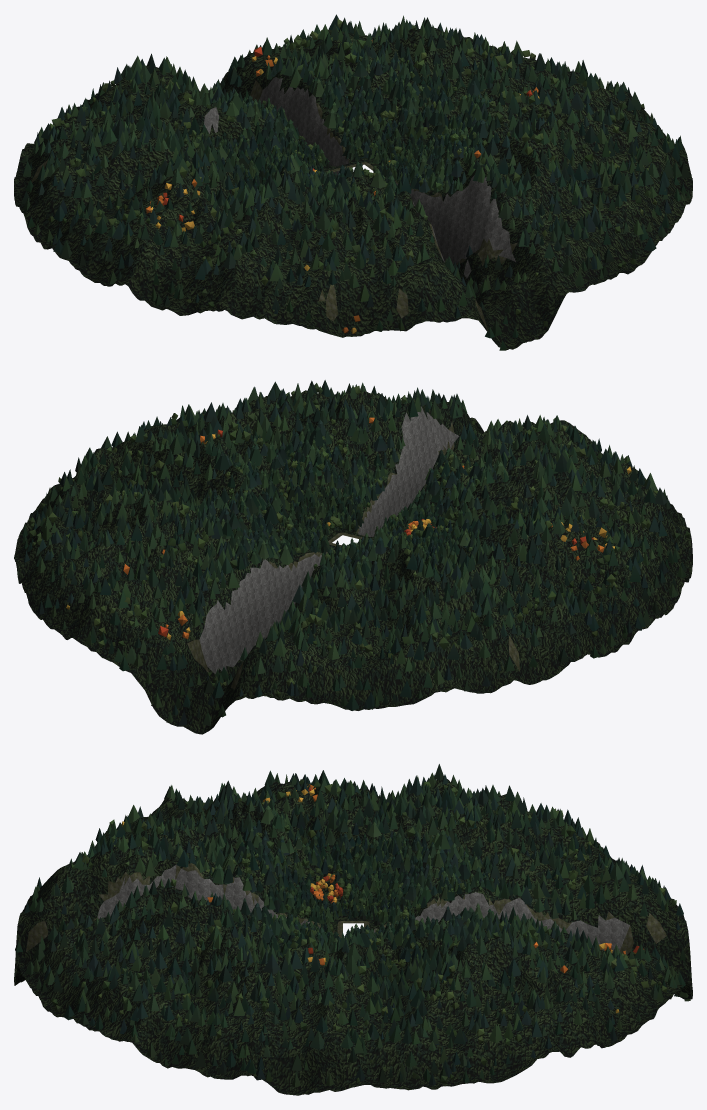
Rendered from backdrop_near_rect_iron_summer.glb.
3 views of the same model, one above another, from view 1: azimuth 30°, elevation 25°; view 2: azimuth 150°, elevation 25°; view 3: azimuth 270°, elevation 25° (orthographic).
Visible parts, largest first — view 1: near_land_S, trees_land_W_0, near_land_W, trees_land_S_0, trees_land_E_0, trees_land_N_0, near_land_E, near_land_N; view 2: near_land_N, trees_land_N_0, trees_land_W_0, near_land_W, trees_land_E_0, trees_land_S_0, near_land_S, near_land_E; view 3: near_land_E, trees_land_E_0, trees_land_W_0, near_land_S, trees_land_N_0, trees_land_S_0, near_land_N, near_land_W.
Part boxes in pixels (x1,y1,x2,y2): near_land_S: (265,125,680,349); trees_land_W_0: (21,89,324,307); near_land_W: (14,102,333,319); trees_land_S_0: (269,116,671,350); trees_land_E_0: (360,22,690,201); trees_land_N_0: (40,14,431,168); near_land_E: (359,28,692,217); near_land_N: (26,28,420,175); near_land_N: (25,509,442,734); trees_land_N_0: (37,499,435,726); trees_land_W_0: (386,451,690,691); near_land_W: (373,461,692,693); trees_land_E_0: (22,386,345,572); trees_land_S_0: (268,380,671,536); near_land_S: (276,390,676,539); near_land_E: (14,396,352,592); near_land_E: (113,915,592,1095); trees_land_E_0: (130,905,582,1087); trees_land_W_0: (138,764,586,920); near_land_S: (14,818,338,1039); trees_land_N_0: (373,809,690,1041); trees_land_S_0: (15,805,333,1033); near_land_N: (369,820,692,1048); near_land_W: (140,779,565,926).
Bounding box in the file's own units: 577 × 177 × 576.
4 materials, 3 textured.
